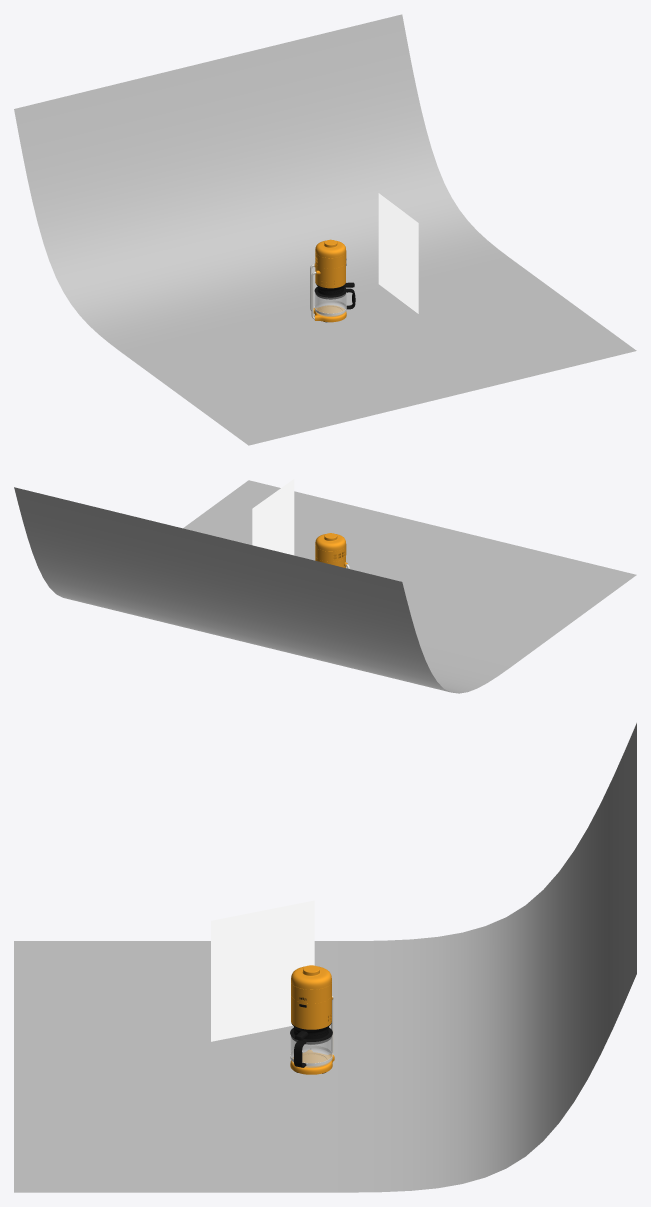
File: coffee_maker_extended.glb
The picture shows the model from 3 angles, top to bottom: view 1: azimuth 30°, elevation 25°; view 2: azimuth 150°, elevation 25°; view 3: azimuth 270°, elevation 25°; orthographic projection. The views are drawn at different scales.
Visible parts, largest first — view 1: 19_Floor, 21_diffuse_00, 15_Plastic_Orange; view 2: 19_Floor, 21_diffuse_00, 03_Plastic_Orange, 17_Plastic_Orange; view 3: 19_Floor, 20_diffuse_00, 15_Plastic_Orange, 03_Plastic_Orange, 02_Glass, 05_Plastic_Orange.
Part boxes in pixels (x1=…): 19_Floor: x1=14, y1=14, x2=636, y2=445; 21_diffuse_00: x1=378, y1=193, x2=418, y2=313; 15_Plastic_Orange: x1=315, y1=263, x2=345, y2=288; 19_Floor: x1=14, y1=480, x2=636, y2=693; 21_diffuse_00: x1=252, y1=479, x2=294, y2=555; 03_Plastic_Orange: x1=315, y1=533, x2=346, y2=551; 17_Plastic_Orange: x1=315, y1=545, x2=346, y2=561; 19_Floor: x1=14, y1=723, x2=636, y2=1192; 20_diffuse_00: x1=211, y1=900, x2=314, y2=1041; 15_Plastic_Orange: x1=291, y1=996, x2=331, y2=1029; 03_Plastic_Orange: x1=291, y1=965, x2=331, y2=989; 02_Glass: x1=291, y1=1036, x2=331, y2=1067; 05_Plastic_Orange: x1=290, y1=1050, x2=334, y2=1074.
Size of the model in its own units: 2 by 0.8111 by 2.09.
